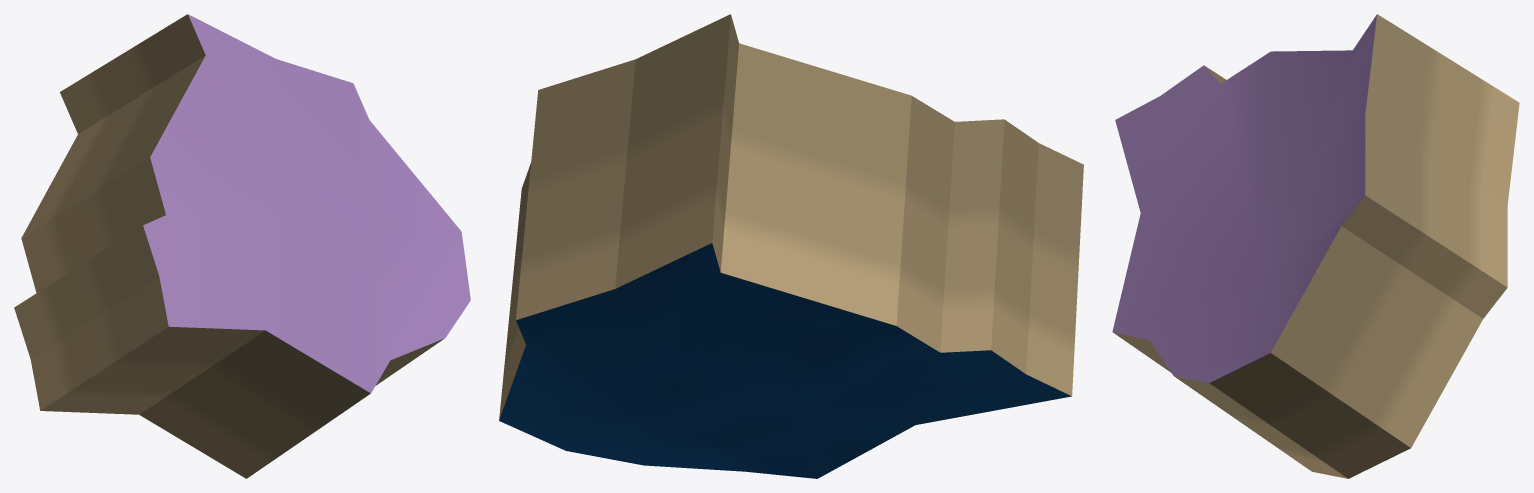
File: 068c_Romania.glb
3 views of the same model, side by side, from view 1: azimuth 30°, elevation 25°; view 2: azimuth 150°, elevation 25°; view 3: azimuth 270°, elevation 25° (orthographic). The views are drawn at different scales.
Parts seen in each view (by area): view 1: part_0; view 2: part_0; view 3: part_0.
Boxes of the visible parts, x1=… form: part_0: x1=14, y1=14, x2=470, y2=478; part_0: x1=499, y1=14, x2=1083, y2=478; part_0: x1=1112, y1=14, x2=1519, y2=478.
Bounding box in the file's own units: 0.4889 × 0.4524 × 0.4018.
Materials: 1 (1 with a texture image).
